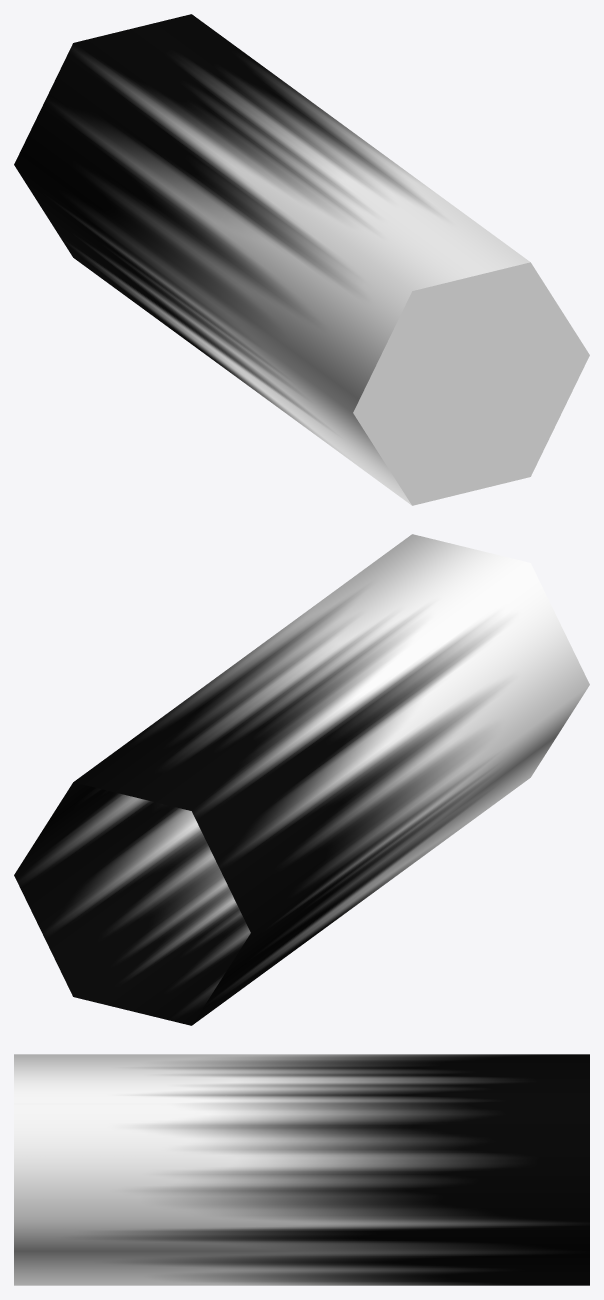
The model's file is Bullet.FBX.
The picture shows the model from 3 angles, top to bottom: view 1: azimuth 30°, elevation 25°; view 2: azimuth 150°, elevation 25°; view 3: azimuth 270°, elevation 25°; orthographic projection. The views are drawn at different scales.
Parts seen in each view (by area): view 1: Cylinder001; view 2: Cylinder001; view 3: Cylinder001.
Part boxes in pixels (<box>): Cylinder001: <box>14,14,589,505</box>; Cylinder001: <box>14,534,589,1025</box>; Cylinder001: <box>14,1054,589,1285</box>.
Bounding box in the file's own units: 16.95 × 14.68 × 42.01.
